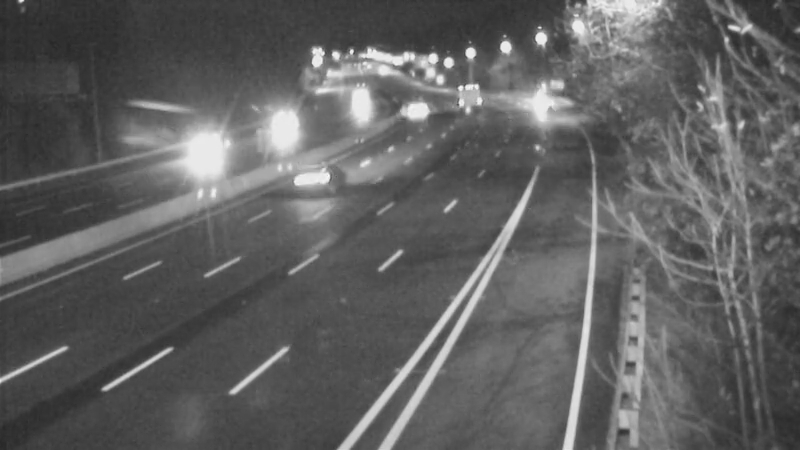vehicle: (278, 144, 358, 224), (167, 118, 247, 198), (519, 76, 569, 126), (440, 70, 490, 120), (391, 88, 441, 138), (254, 105, 304, 155), (337, 75, 387, 125)
